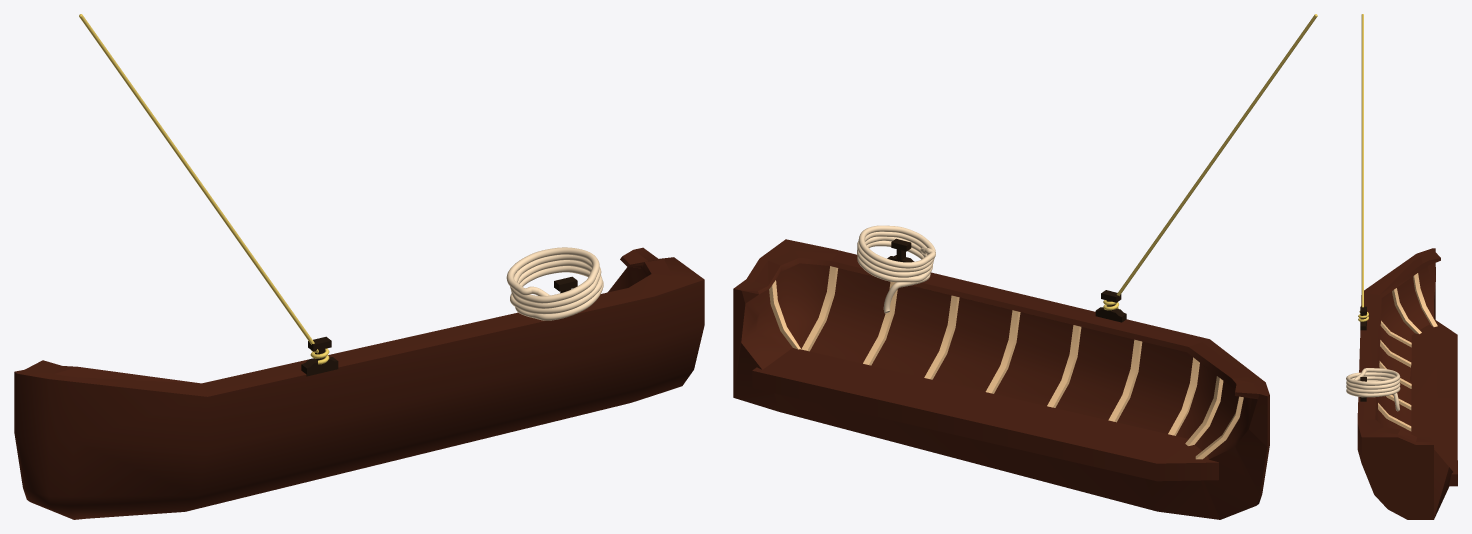
Rendered from largeboathigherrez.FBX.
3 renders of one model, left to right at view 1: azimuth 30°, elevation 25°; view 2: azimuth 150°, elevation 25°; view 3: azimuth 270°, elevation 25°, orthographic. The views are drawn at different scales.
Parts seen in each view (by area): view 1: hull003; view 2: hull003; view 3: hull003.
Part boxes in pixels (x1,y1,x2,y2): hull003: (14, 14, 704, 519); hull003: (733, 14, 1317, 519); hull003: (1346, 14, 1457, 519).
Bounding box in the file's own units: 776 × 673 × 204.
